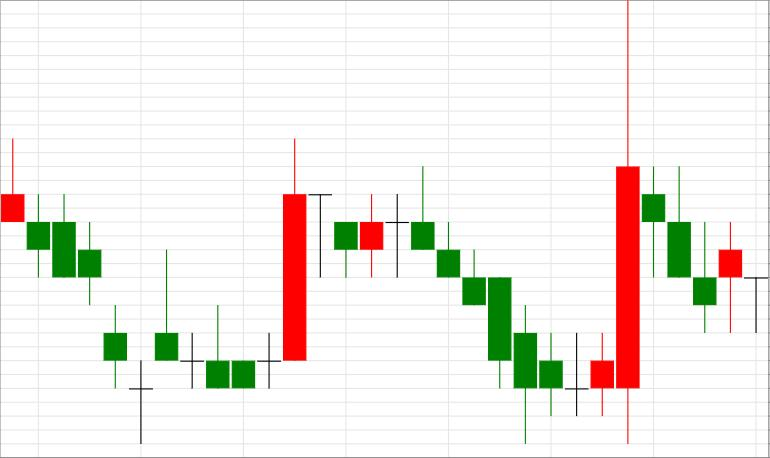morning_star_rise: (412, 167, 614, 444)
